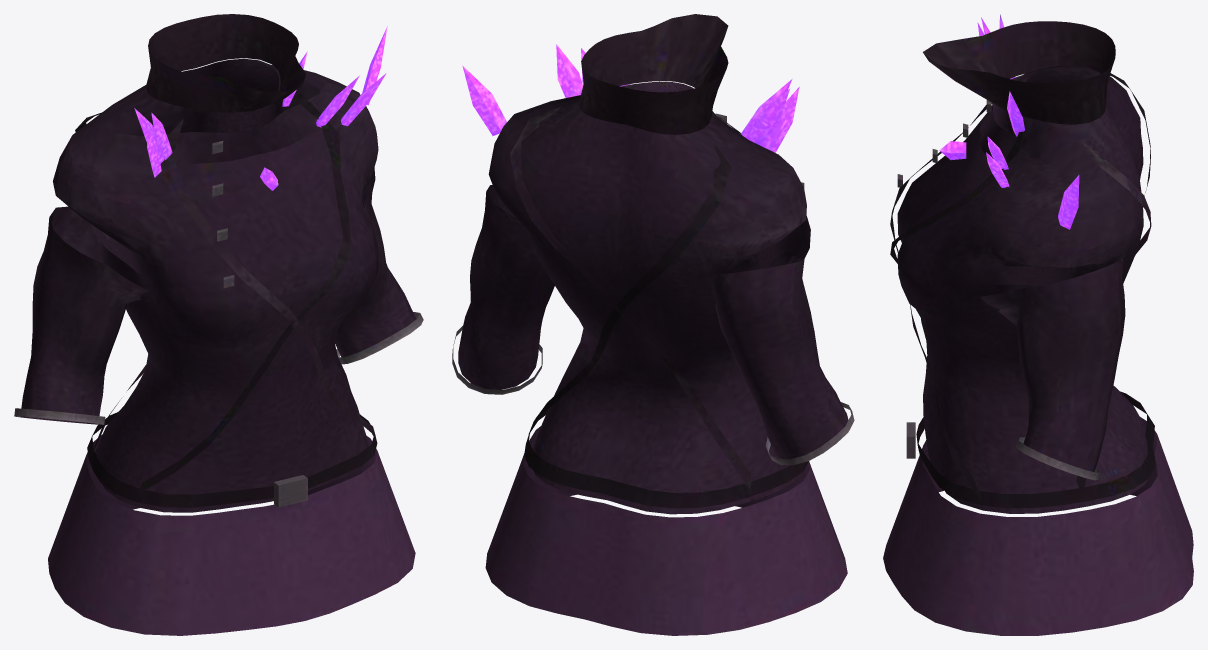
File: Peitoral_de_Couro_nivel75.glb
3 renders of one model, left to right at view 1: azimuth 30°, elevation 25°; view 2: azimuth 150°, elevation 25°; view 3: azimuth 270°, elevation 25°, orthographic.
Visible parts, largest first — view 1: peitoral_de_couro_nivel75; view 2: peitoral_de_couro_nivel75; view 3: peitoral_de_couro_nivel75.
Part boxes in pixels (box(x1,y1,x2,y2)): peitoral_de_couro_nivel75: box(14, 14, 423, 635); peitoral_de_couro_nivel75: box(452, 14, 854, 635); peitoral_de_couro_nivel75: box(883, 14, 1193, 635).
Size of the model in its own units: 0.6005 by 0.7376 by 0.41.
1 material, 1 textured.
